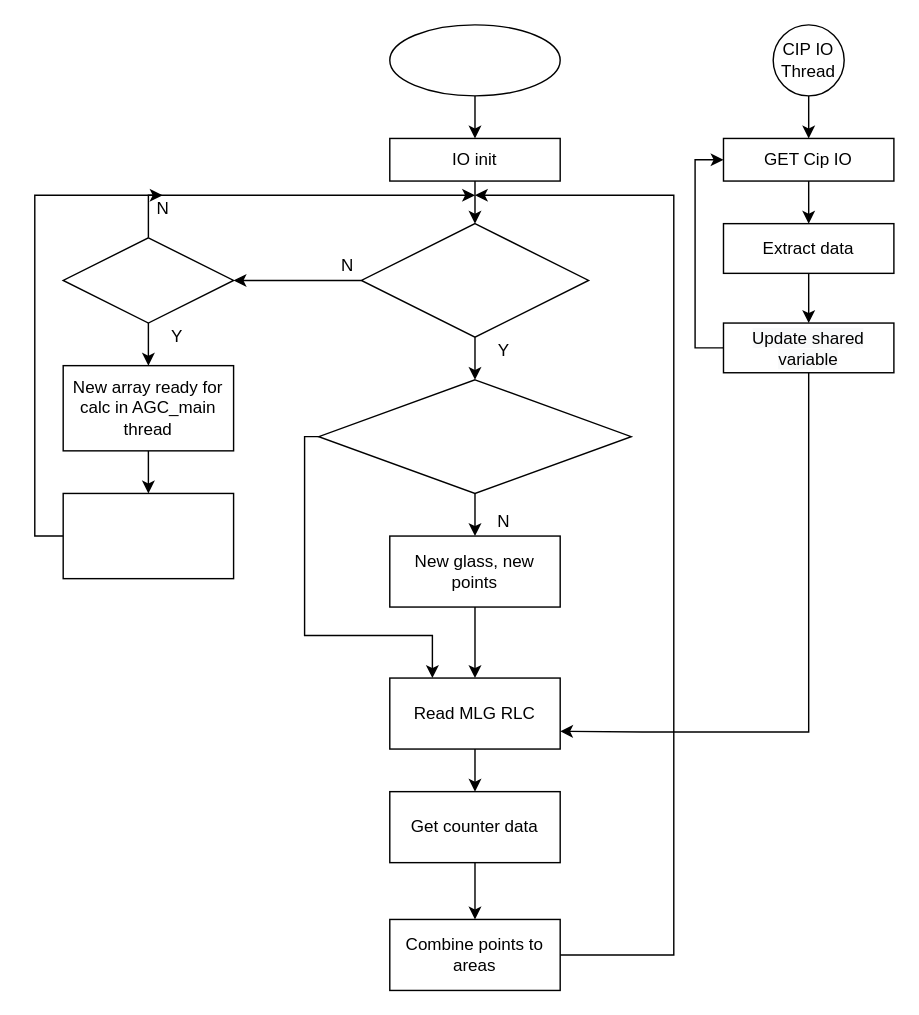
This 919x1015 diagram has some shape labels left out. Here are the shapes that lost their labels. From the top down, the box of each, then its label:
(388, 23, 560, 96): Start Measurement
(62, 236, 234, 323): Was active before?
(360, 222, 589, 337): Input active?
(317, 378, 631, 493): Was input active before?
(62, 492, 234, 579): Update states: main window
